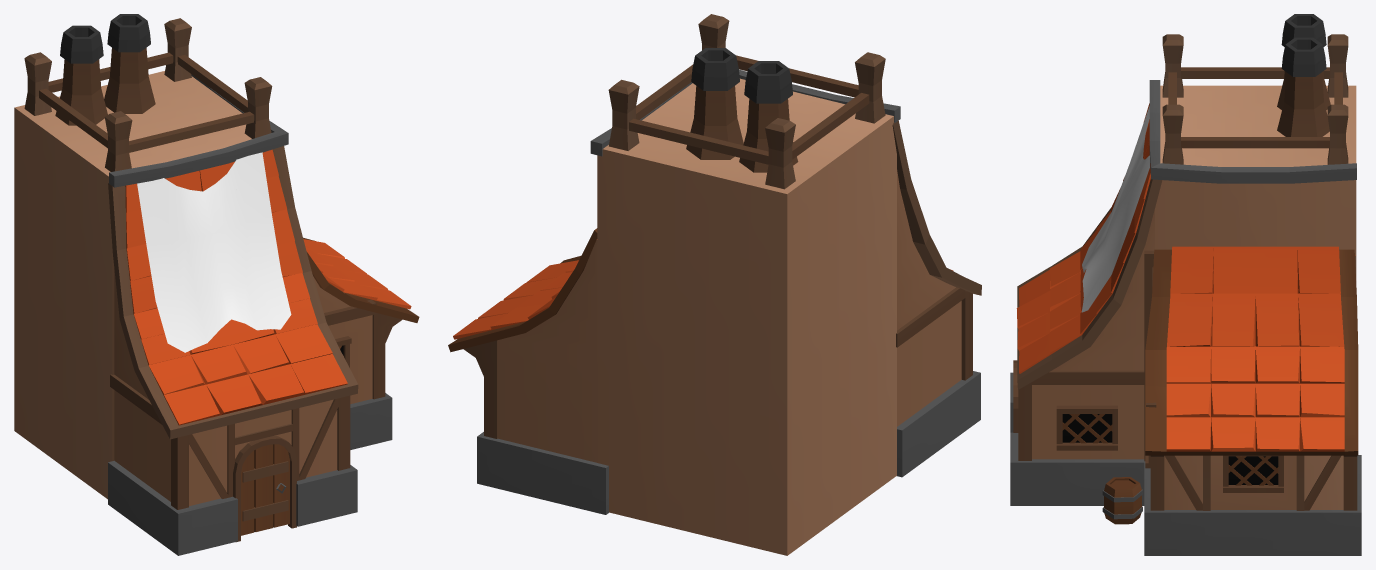
Rendered from Town Hall Level 4.glb.
3 views of the same model, side by side, from view 1: azimuth 30°, elevation 25°; view 2: azimuth 150°, elevation 25°; view 3: azimuth 270°, elevation 25° (orthographic). The views are drawn at different scales.
Parts seen in each view (by area): view 1: Town Hall Level 4 Base, Flag.004, Door.004; view 2: Town Hall Level 4 Base; view 3: Town Hall Level 4 Base, Flag.004.
Part boxes in pixels (box(x1,y1,x2,y2)): Town Hall Level 4 Base: box(14, 14, 419, 555); Flag.004: box(137, 152, 291, 352); Door.004: box(241, 444, 289, 535); Town Hall Level 4 Base: box(448, 14, 981, 555); Town Hall Level 4 Base: box(1010, 14, 1361, 555); Flag.004: box(1081, 106, 1149, 312).
Bounding box in the file's own units: 6.74 × 8.4 × 6.37.
Materials: 2 (2 with a texture image).
